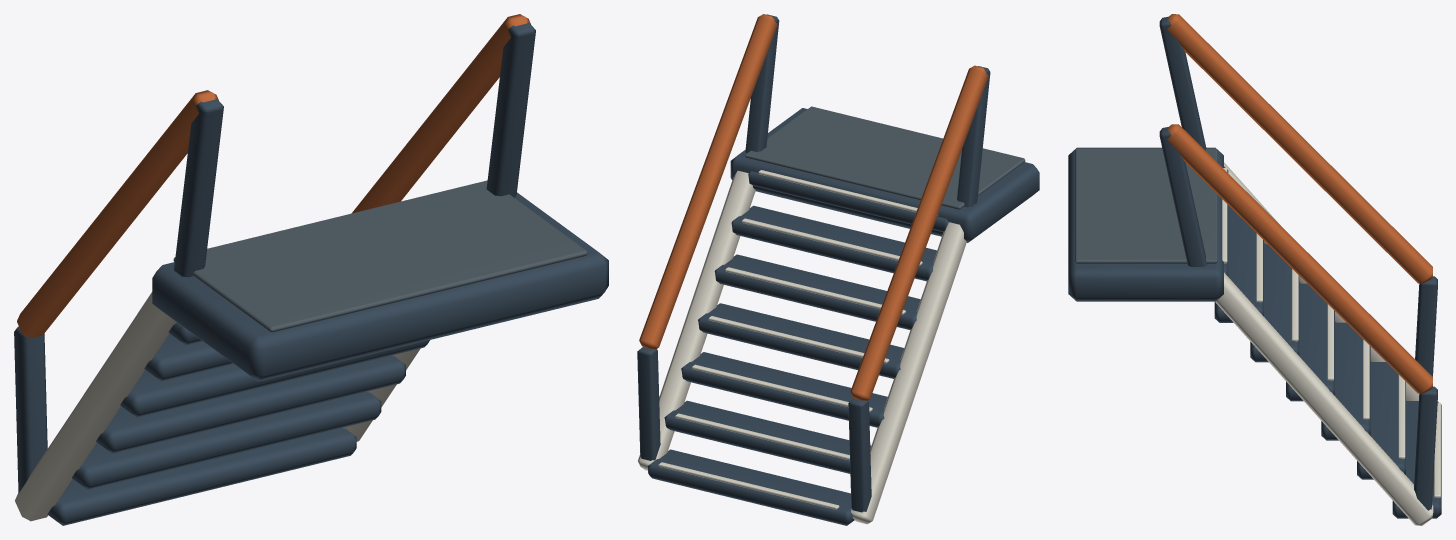
Rendered from SM_SSTO_Ladder.fbx.
3 views of the same model, side by side, from view 1: azimuth 30°, elevation 25°; view 2: azimuth 150°, elevation 25°; view 3: azimuth 270°, elevation 25° (orthographic). The views are drawn at different scales.
Visible parts, largest first — view 1: SM_SSTO_Ladder; view 2: SM_SSTO_Ladder; view 3: SM_SSTO_Ladder.
Part boxes in pixels (x1,y1,x2,y2): SM_SSTO_Ladder: (14,14,608,525); SM_SSTO_Ladder: (637,14,1039,525); SM_SSTO_Ladder: (1068,14,1441,525).
Bounding box in the file's own units: 178 × 221 × 259.
